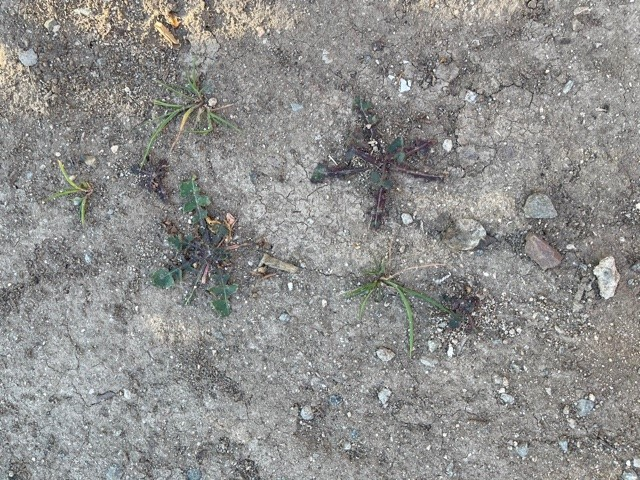Background: (37, 311, 195, 413)
Weed: (123, 58, 248, 176), (339, 252, 430, 366), (31, 151, 109, 237)
